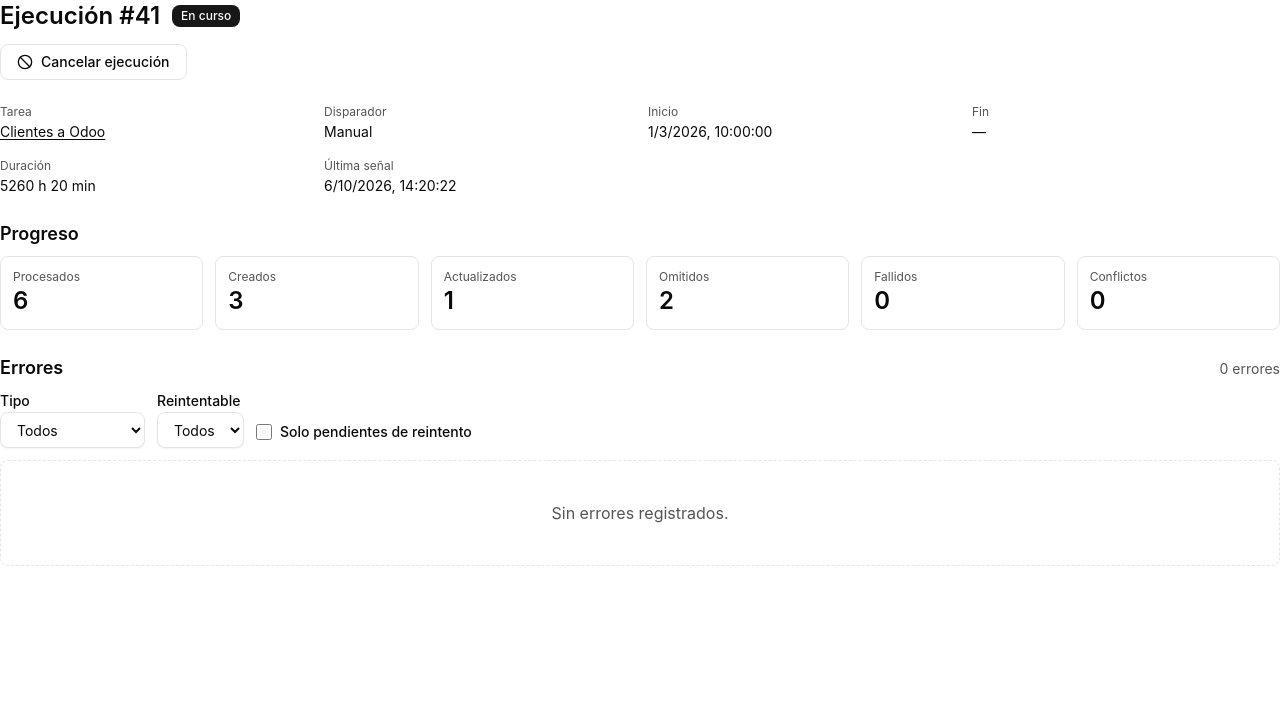
Test: RunDetailPage actions › cancels a running run after confirmation and refreshes the detail
The image size is (1280, 720).
What coordinates should you click on to do the following:
click the button "Cancelar ejecución"
I would click on:
 (93, 62)
Its box is [0, 44, 186, 80].
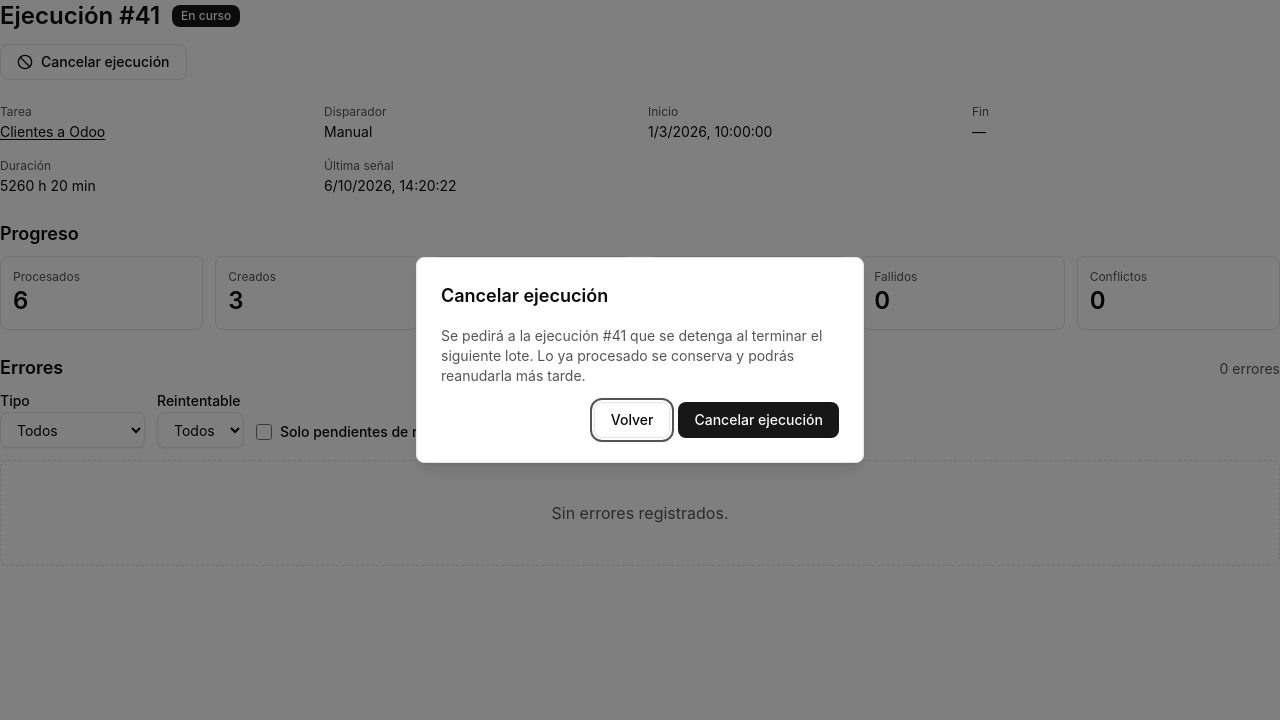
Now the text "siguiente lote" is shown, box [441, 327, 822, 384]
What coordinates should you click on to do the following:
click the button "Cancelar ejecución"
I would click on:
 (759, 420)
Its box is [678, 402, 839, 438].
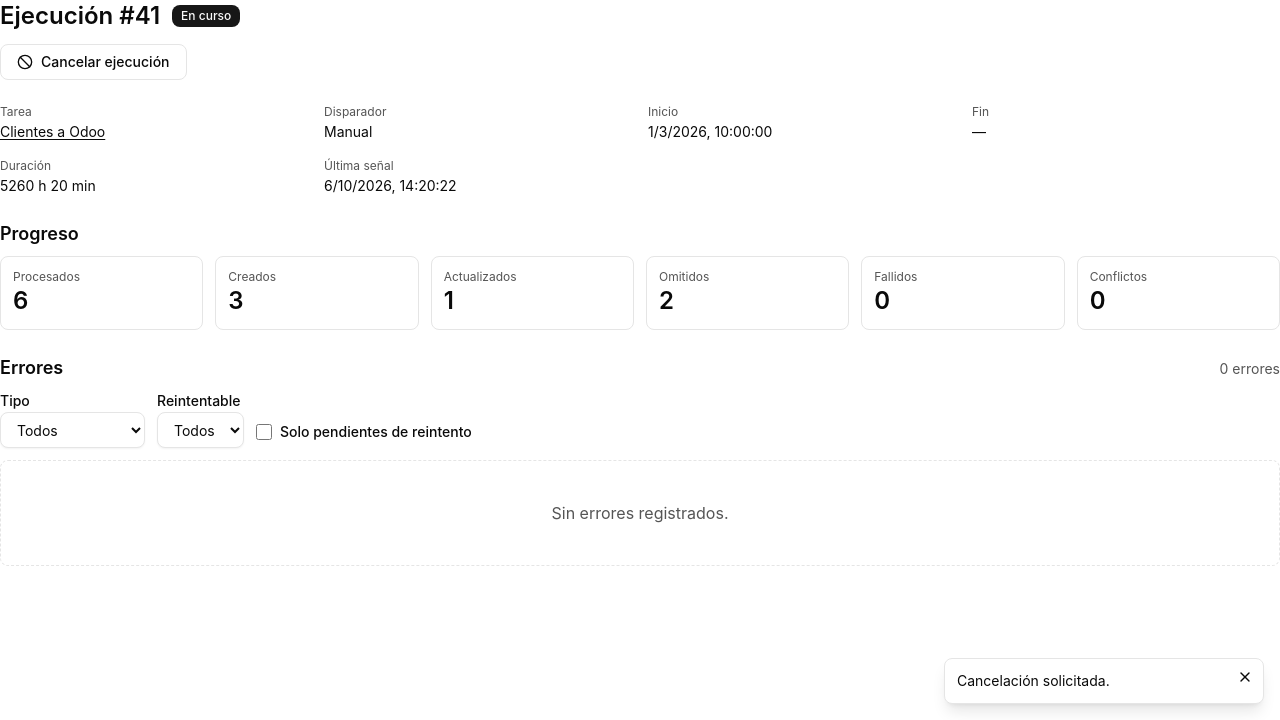
Now the text "Cancelación solicitada." is shown, box [957, 672, 1110, 689]
